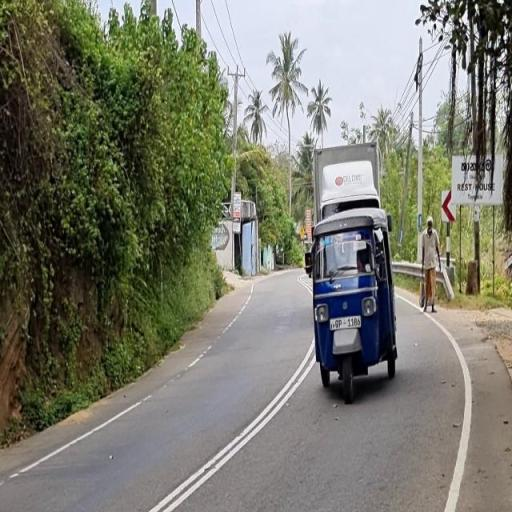double_white_line: (144, 344, 311, 512)
